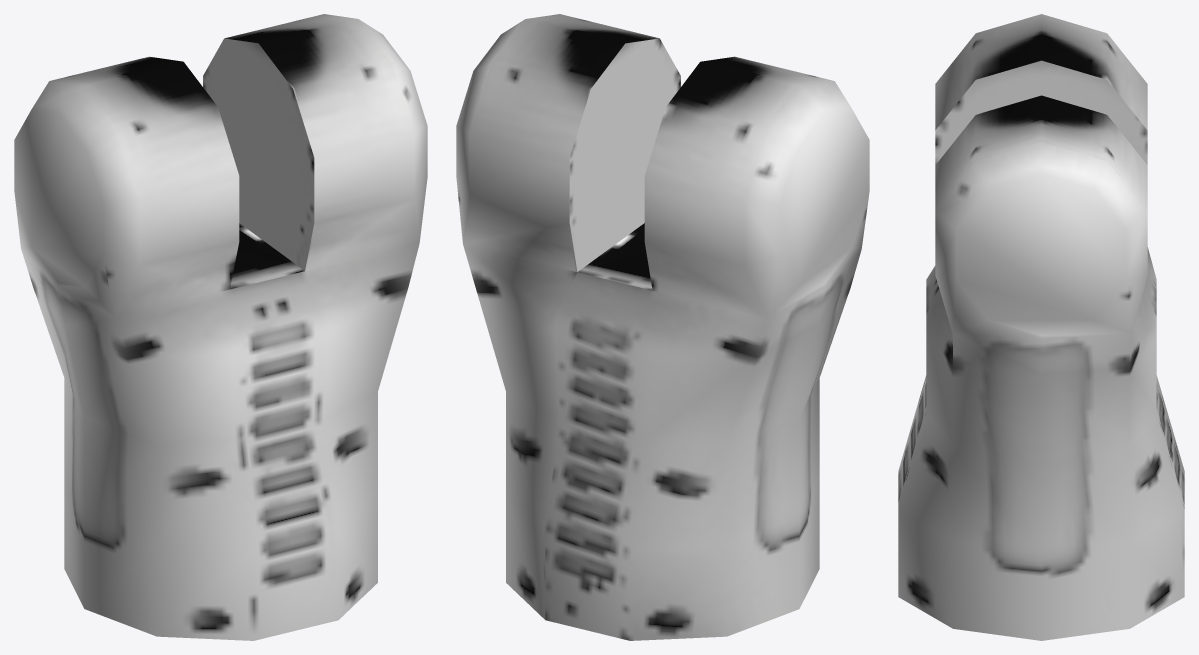
File: l_farm.obj
3 views of the same model, side by side, from view 1: azimuth 30°, elevation 25°; view 2: azimuth 150°, elevation 25°; view 3: azimuth 270°, elevation 25° (orthographic). The views are drawn at different scales.
Visible parts, largest first — view 1: l_farm; view 2: l_farm; view 3: l_farm.
Part boxes in pixels (x1=…): l_farm: x1=14, y1=14, x2=427, y2=640; l_farm: x1=456, y1=14, x2=869, y2=640; l_farm: x1=898, y1=14, x2=1184, y2=640.
Size of the model in its own units: 0.1246 by 0.1915 by 0.0995.
